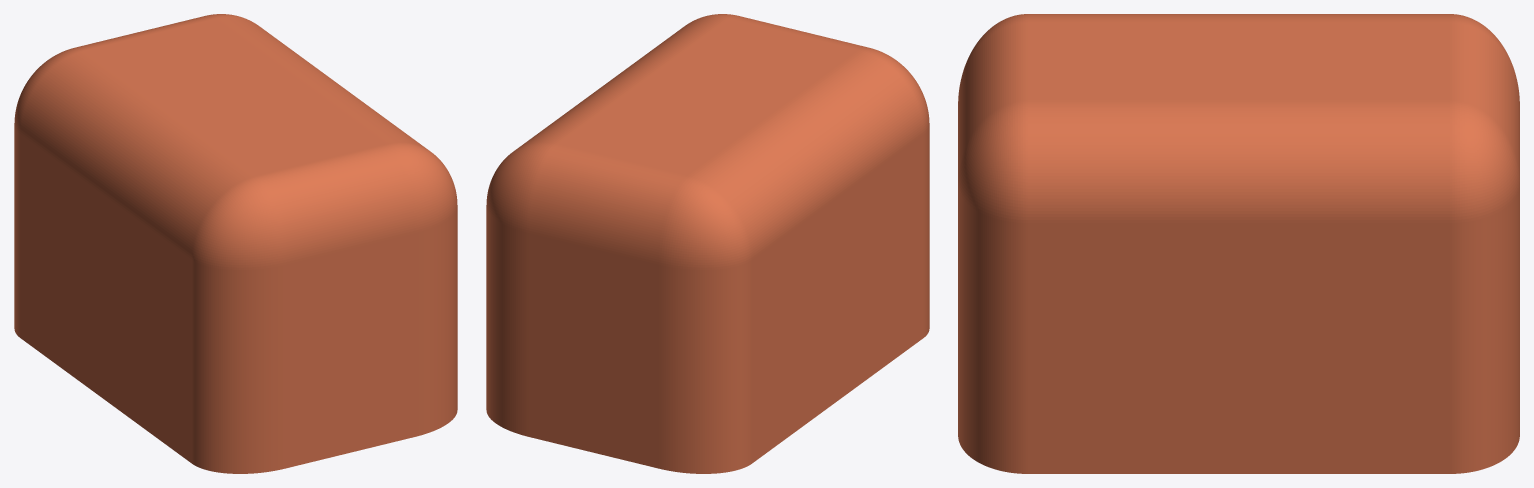
File: cake4.fbx
3 views of the same model, side by side, from view 1: azimuth 30°, elevation 25°; view 2: azimuth 150°, elevation 25°; view 3: azimuth 270°, elevation 25° (orthographic). The views are drawn at different scales.
Parts seen in each view (by area): view 1: Cube.158, Cube.159; view 2: Cube.159, Cube.158; view 3: Cube.158, Cube.159.
Part boxes in pixels (box(x1,y1,x2,y2)): Cube.158: box(106, 79, 457, 473); Cube.159: box(14, 14, 341, 400); Cube.159: box(486, 79, 837, 473); Cube.158: box(602, 14, 929, 400); Cube.158: box(958, 14, 1238, 473); Cube.159: box(1239, 14, 1519, 473).
Bounding box in the file's own units: 393 × 393 × 599.
